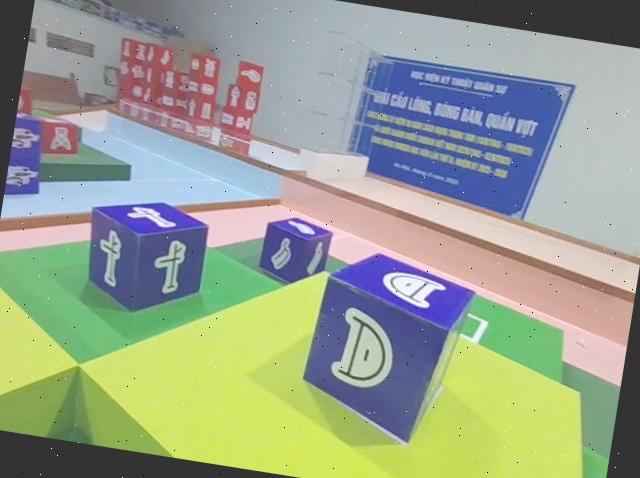R1 Blue: (2, 113, 50, 208)
R2 Real Blue: (299, 242, 483, 450), (76, 192, 212, 323), (256, 214, 336, 292)
